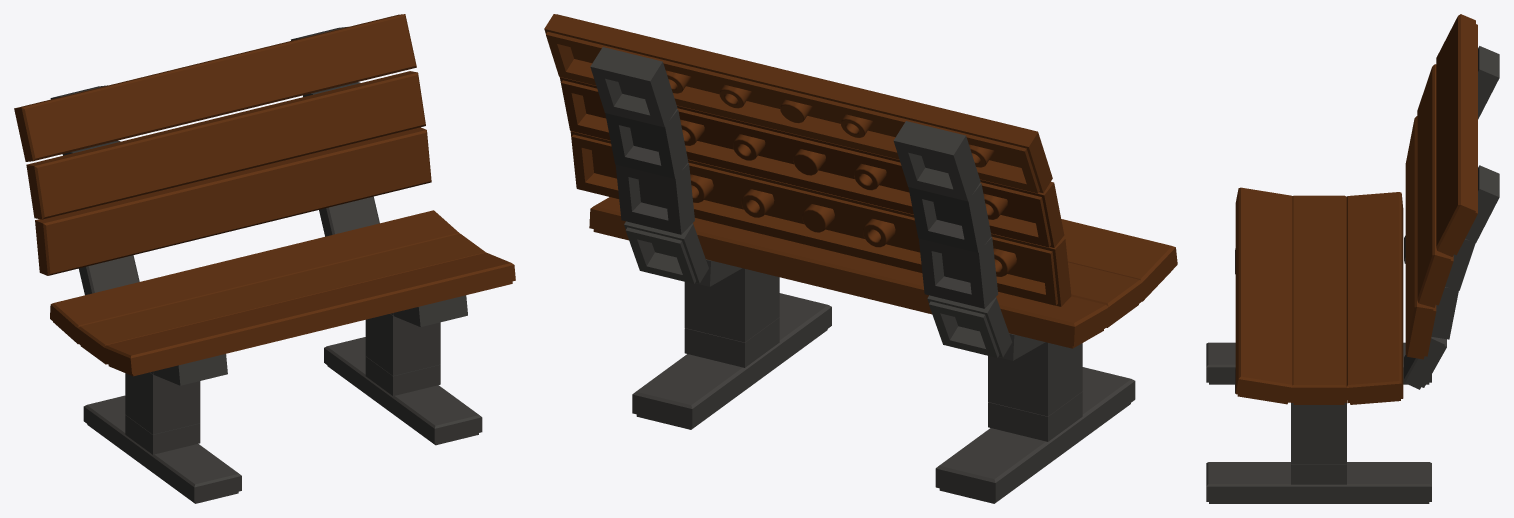
File: Bench.fbx
The picture shows the model from 3 angles, left to right: view 1: azimuth 30°, elevation 25°; view 2: azimuth 150°, elevation 25°; view 3: azimuth 270°, elevation 25°; orthographic projection. The views are drawn at different scales.
Parts seen in each view (by area): view 1: OM; view 2: OM; view 3: OM.
Part boxes in pixels (box(x1,y1,x2,y2)): OM: box(14, 14, 515, 503); OM: box(544, 14, 1177, 503); OM: box(1206, 14, 1499, 503).
Bounding box in the file's own units: 6392 × 5061 × 4152.
